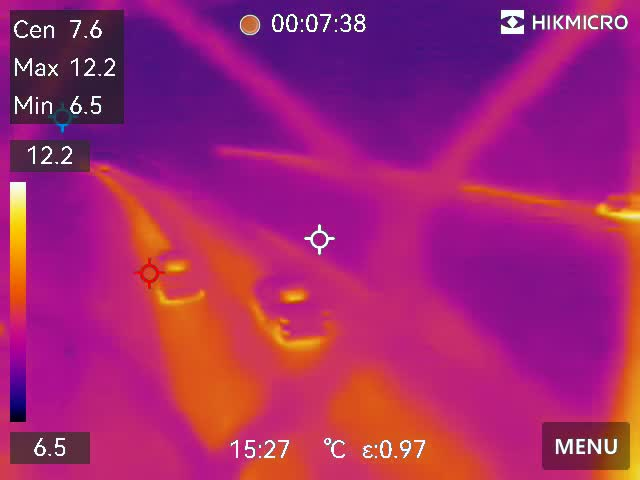vehicle: (248, 276, 334, 343), (150, 253, 208, 303)
